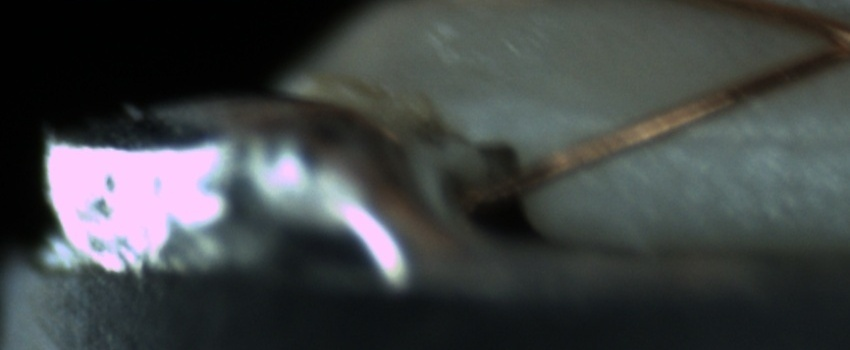CL: (801, 11, 850, 76)
DL: (664, 106, 850, 171)
